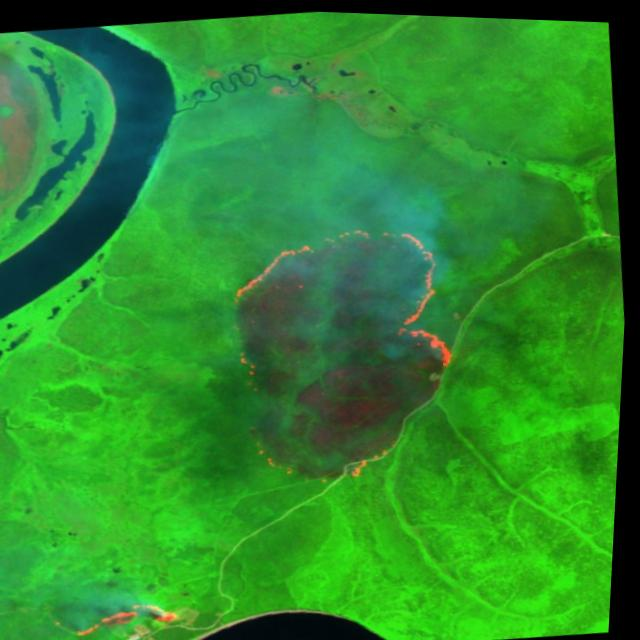fire: (223, 209, 472, 385), (55, 590, 188, 640)
